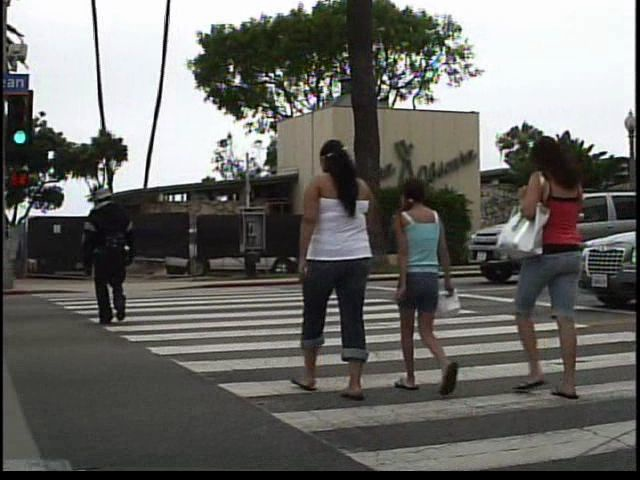person: (287, 129, 394, 401), (511, 136, 602, 408), (387, 171, 461, 401), (74, 182, 140, 333)
